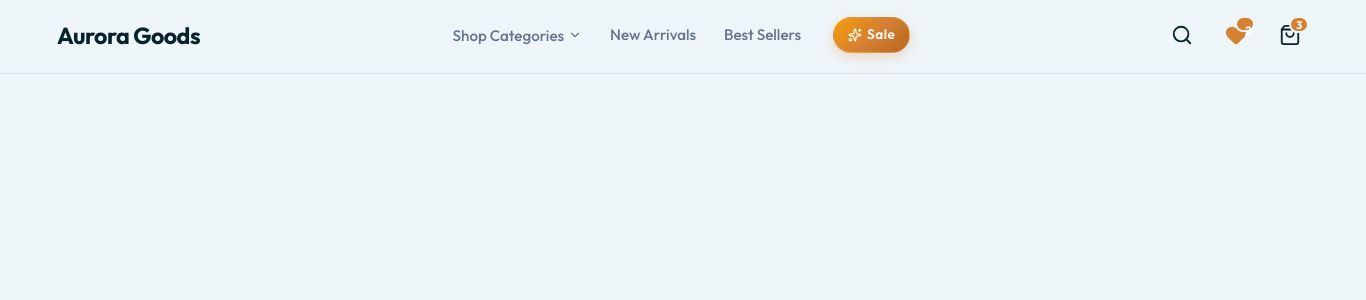
it: Header › toggles shop categories dropdown
The image size is (1366, 300).
Expected: the text "Home Decor" is not shown
// Open dropdown
Click the button "Shop Categories" at point(517, 35), box [453, 18, 582, 53]
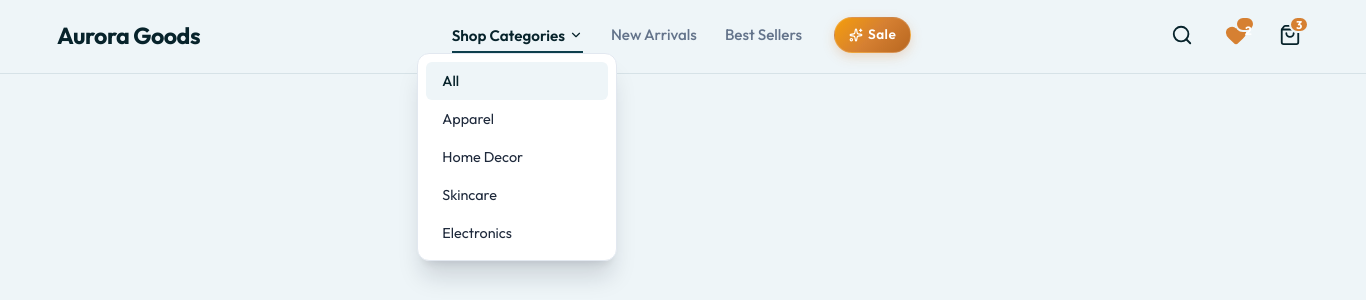
Result: the button "Home Decor" is shown at [426, 138, 608, 176]
// Close dropdown
Click the button "Shop Categories" at point(517, 35), box [452, 18, 583, 53]
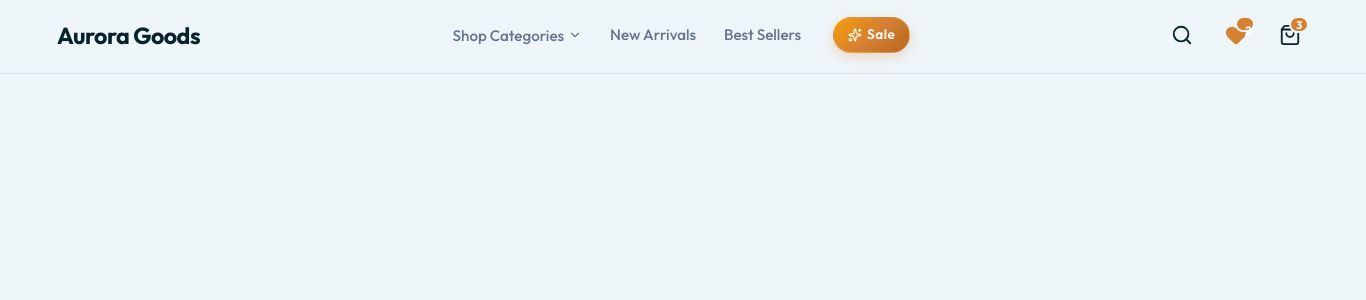
Result: the button "Home Decor" is gone
